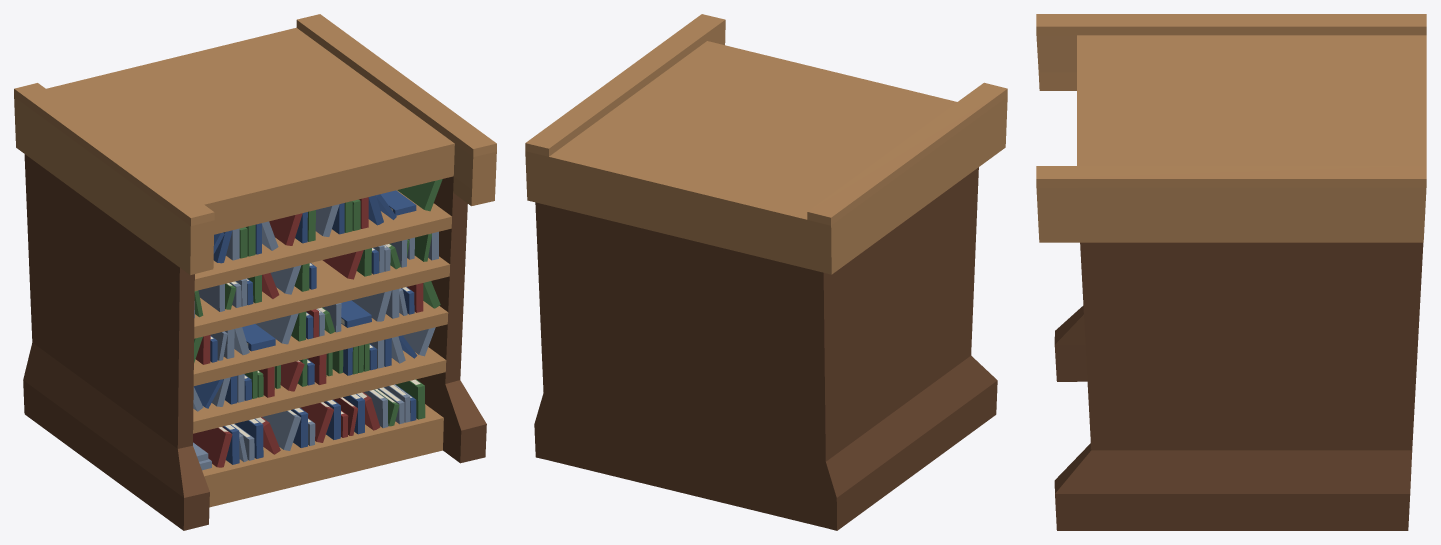
The model's file is qt-book-case-large-books.glb.
3 views of the same model, side by side, from view 1: azimuth 30°, elevation 25°; view 2: azimuth 150°, elevation 25°; view 3: azimuth 270°, elevation 25° (orthographic). The views are drawn at different scales.
Parts seen in each view (by area): view 1: BookCaseLargeBooks_Cube.010; view 2: BookCaseLargeBooks_Cube.010; view 3: BookCaseLargeBooks_Cube.010.
Part boxes in pixels (box(x1,y1,x2,y2)): BookCaseLargeBooks_Cube.010: box(14, 14, 496, 530); BookCaseLargeBooks_Cube.010: box(525, 14, 1007, 530); BookCaseLargeBooks_Cube.010: box(1036, 14, 1426, 530).
Bounding box in the file's own units: 1 × 1 × 1.
